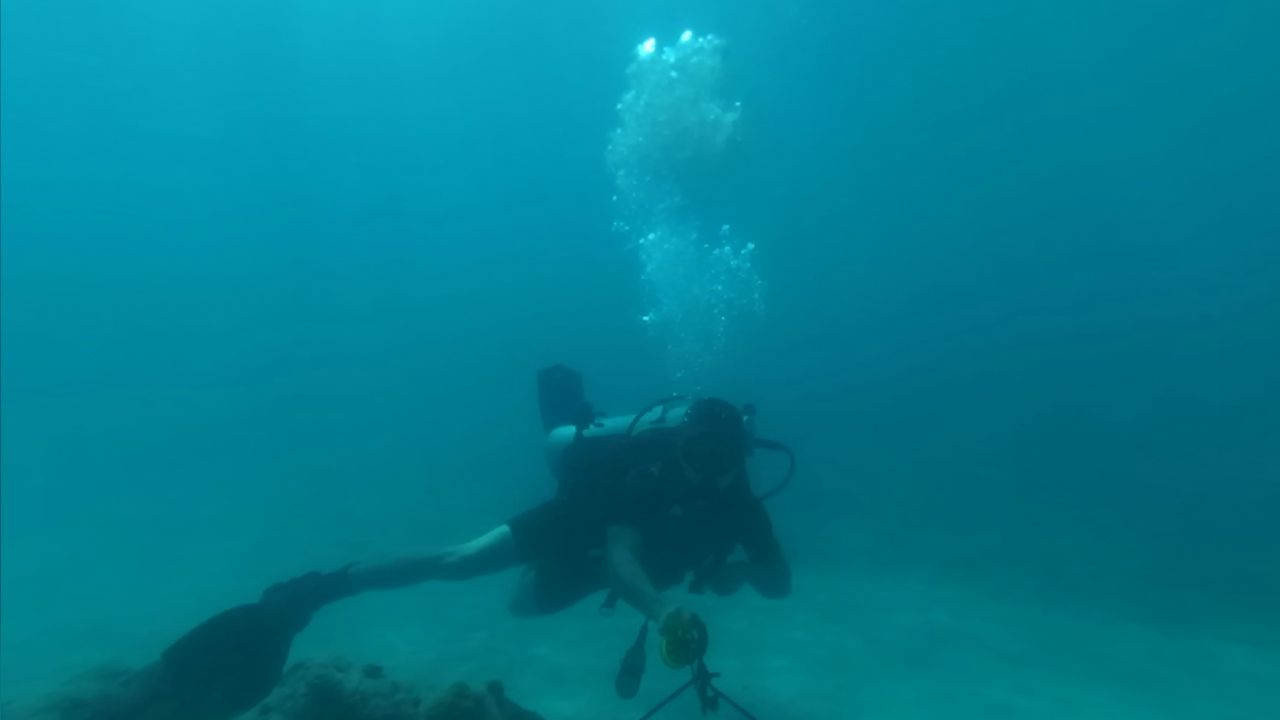Diver: (88, 264, 830, 710)
